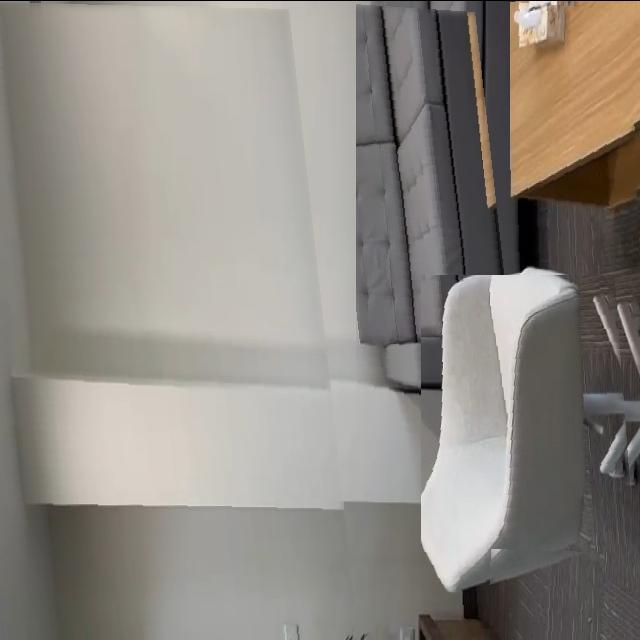floor: (487, 548, 640, 640)
furniture: (421, 274, 640, 626), (356, 0, 523, 432), (510, 0, 640, 264)
wall: (0, 0, 360, 640)
